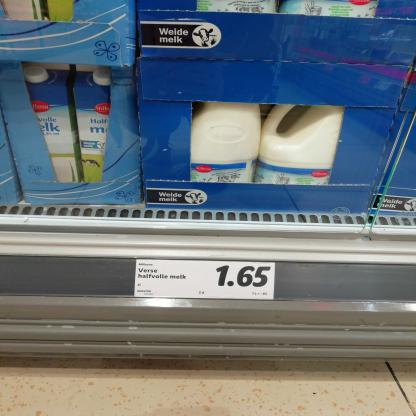prtg: (135, 261, 276, 301)
